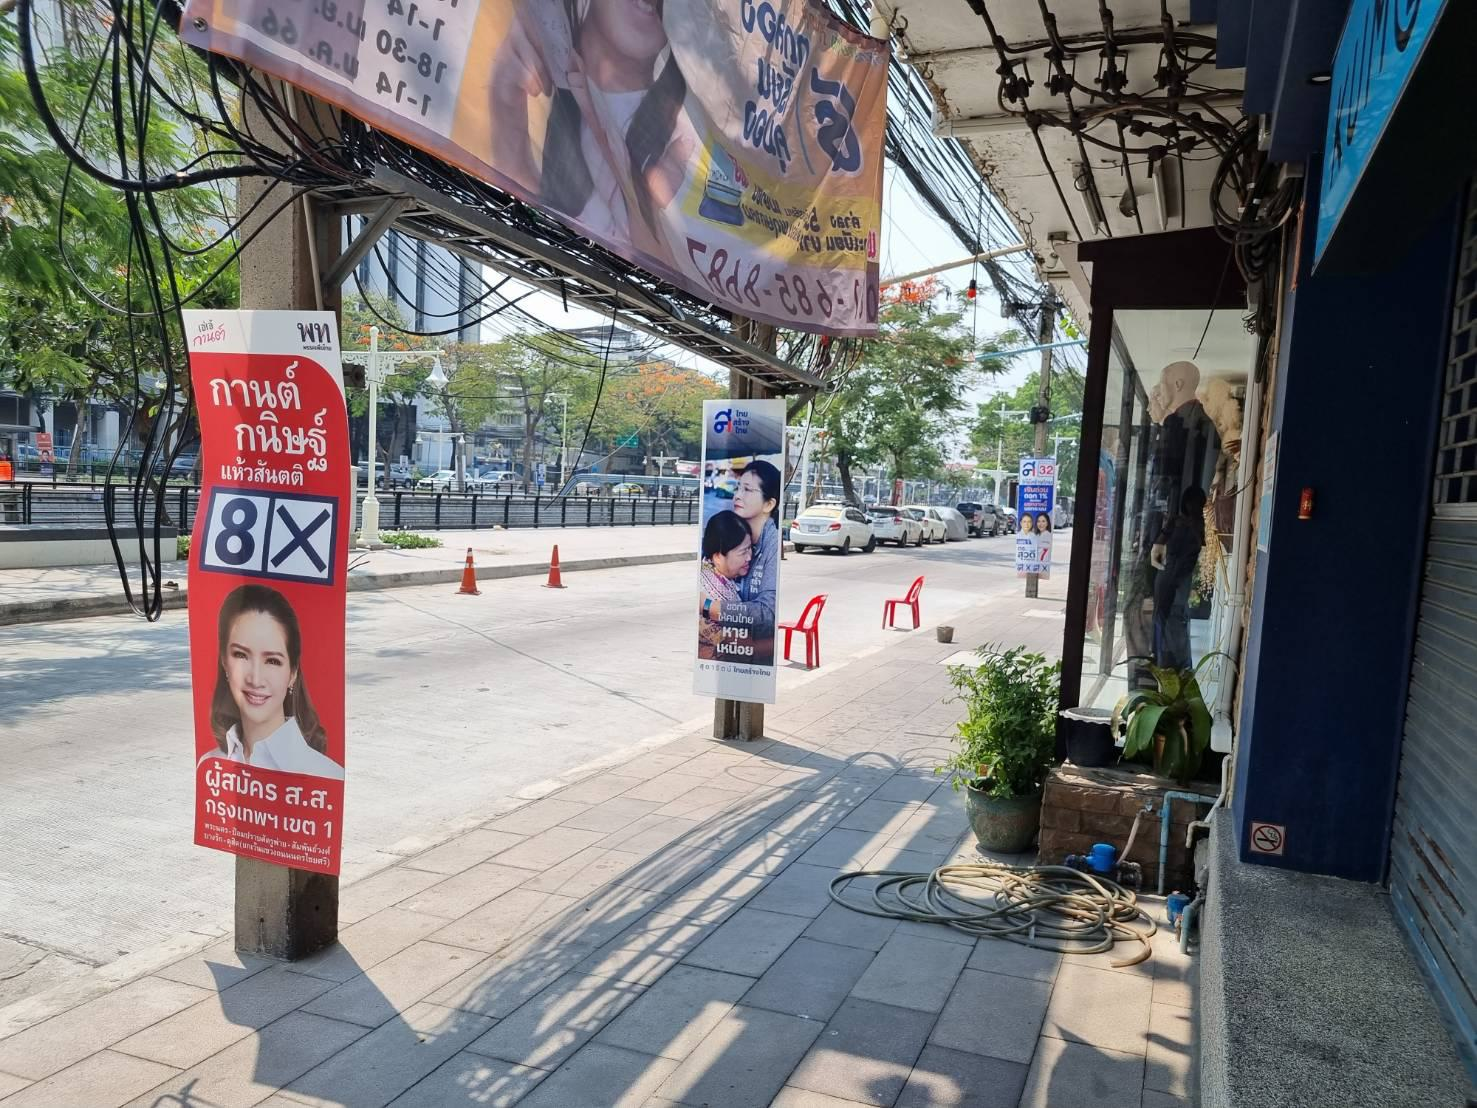Banner: (166, 296, 367, 869)
